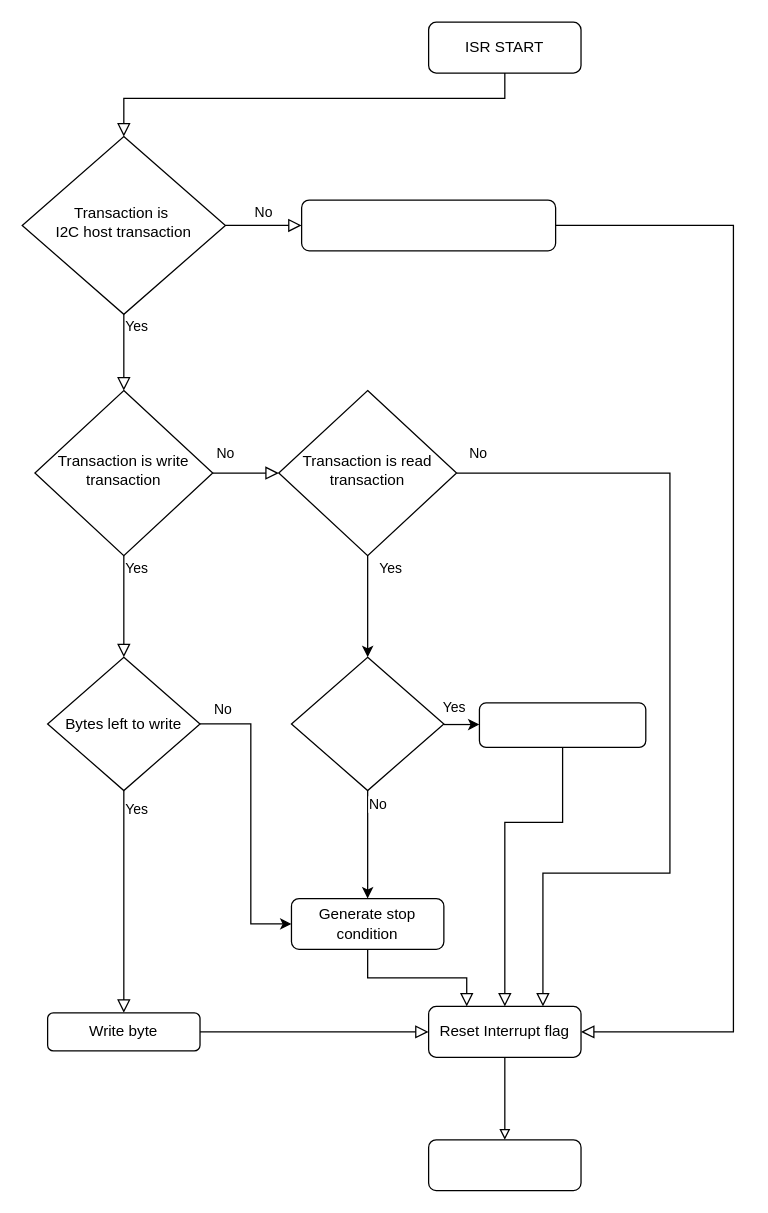
The diagram is 768 pixels wide and 1213 high, and some of its shapes have lost their labels. The shapes that lost their labels are listed below. From the top down, each one's centre as x and y in pixels, then its label:
At pixel 428 225: "RUN the other IRQs if applicable (i2c_slave, spi_host, etc.)".
At pixel 367 723: "Bytes left to read".
At pixel 562 724: "Read byte and ACK".
At pixel 504 1165: "Exit ISR".
